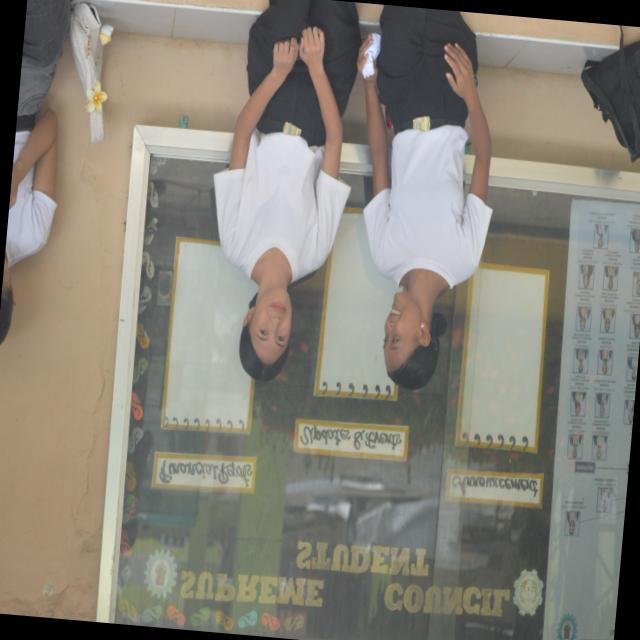person: (214, 0, 360, 380), (364, 5, 492, 389), (0, 0, 70, 343), (575, 306, 591, 331), (593, 434, 608, 458), (580, 263, 594, 287), (566, 510, 580, 534), (602, 307, 616, 331), (569, 433, 583, 457), (605, 265, 618, 289), (596, 392, 609, 416), (628, 228, 640, 253), (572, 391, 585, 414), (600, 487, 612, 511), (596, 223, 608, 247), (600, 349, 612, 373), (576, 348, 588, 372), (625, 399, 634, 423), (628, 356, 637, 379), (632, 313, 639, 336), (634, 271, 639, 294)
